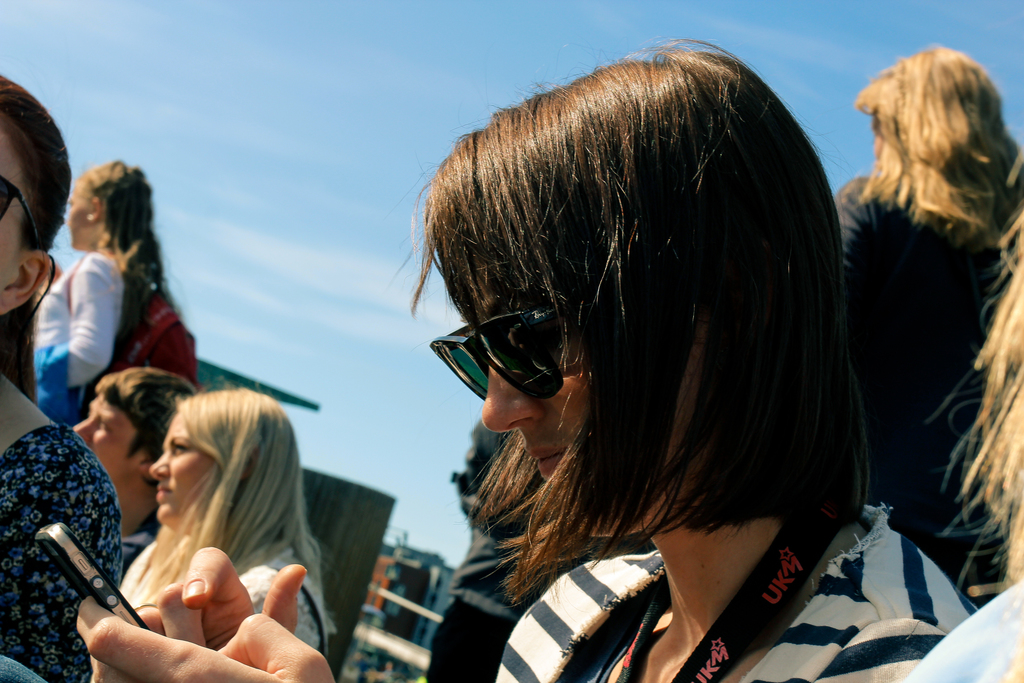Human_hand: (75, 595, 337, 682), (129, 547, 308, 653)
